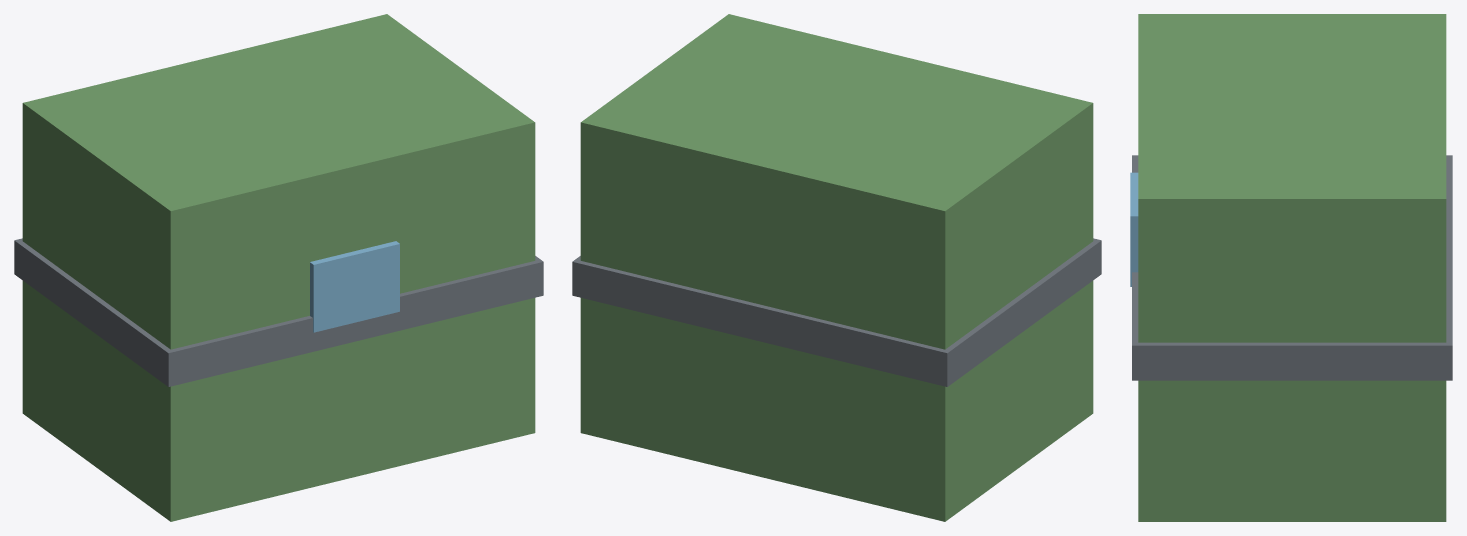
File: SM_LockedCrate.fbx
3 renders of one model, left to right at view 1: azimuth 30°, elevation 25°; view 2: azimuth 150°, elevation 25°; view 3: azimuth 270°, elevation 25°, orthographic. The views are drawn at different scales.
Visible parts, largest first — view 1: SM_LockedCrate; view 2: SM_LockedCrate; view 3: SM_LockedCrate.
Boxes of the visible parts, x1,y1,x2,y2 form: SM_LockedCrate: (14, 14, 543, 521); SM_LockedCrate: (572, 14, 1101, 521); SM_LockedCrate: (1130, 14, 1452, 521).
Bounding box in the file's own units: 13900 × 9950 × 11000.
